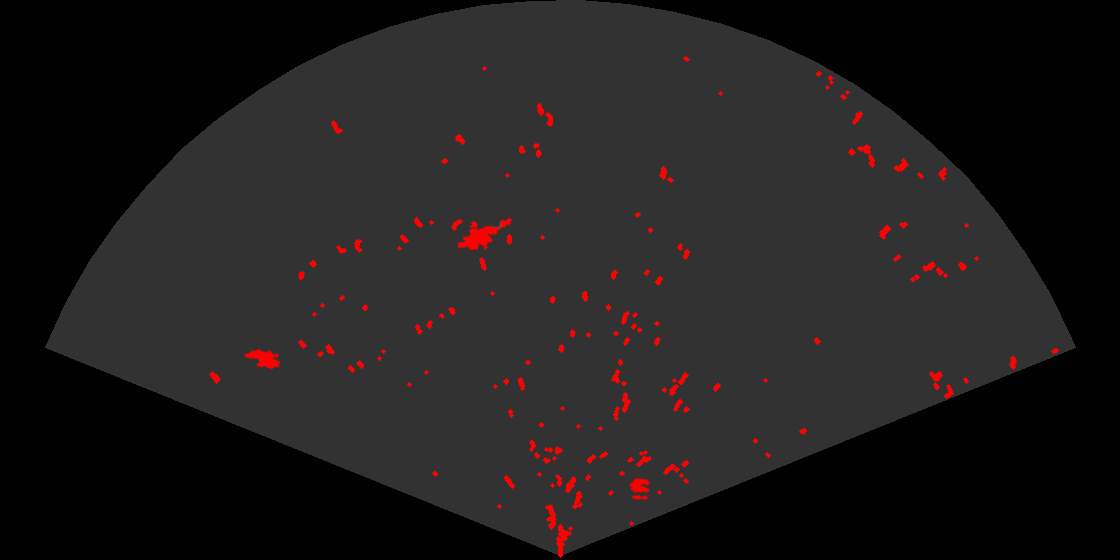AUV: (242, 347, 282, 371)
ball: (628, 476, 652, 502)
frogman: (458, 217, 514, 252)
